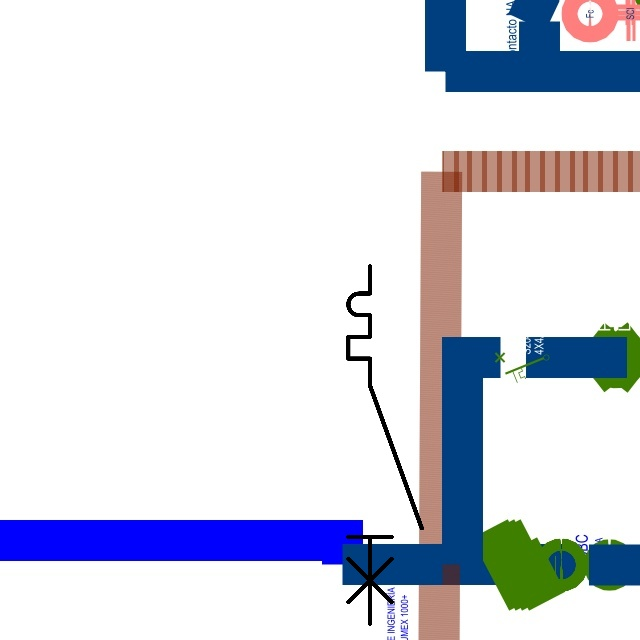interruptor_termomagnetico: (339, 257, 431, 633)
